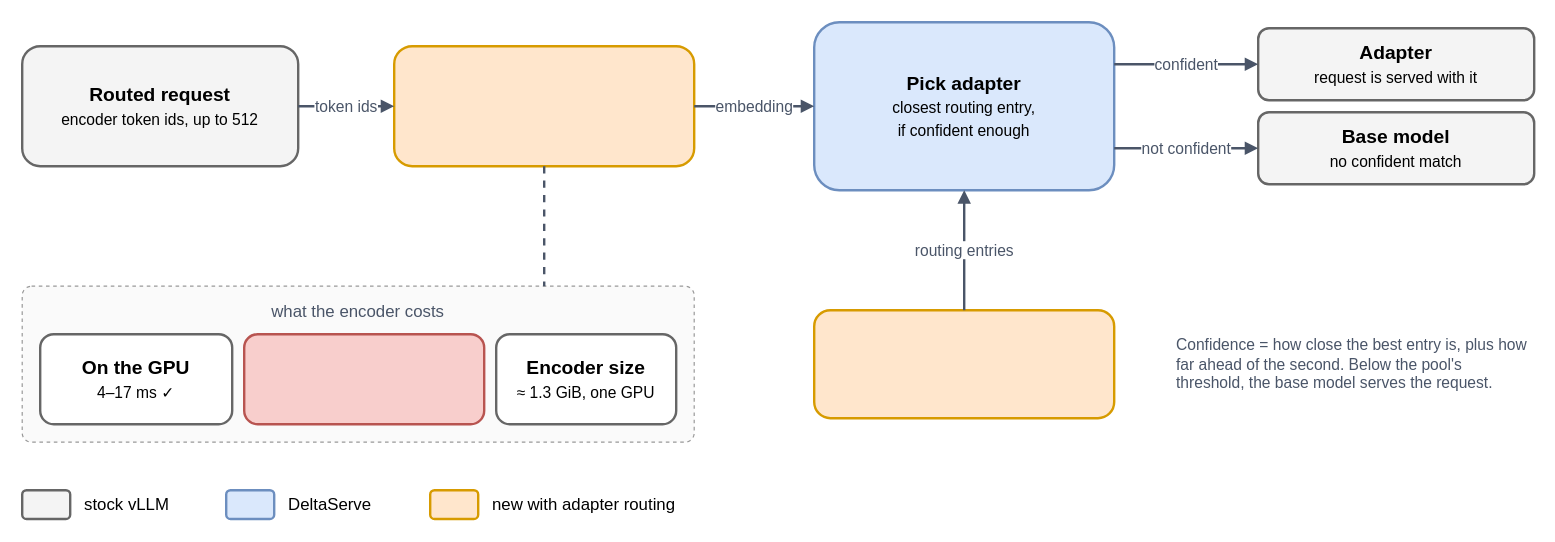
This 1555x542 diagram has some shape labels left out. Here are the shapes that lost their labels. From the top down, the centre of each, then its label:
At (543,105): "① Encoding e5-large-v2, on the GPU, inside one worker".
At (363,378): "On the CPU 50–130 ms: too slow for TTFT ✗".
At (963,363): "Adapter pool one routing entry per adapter".
